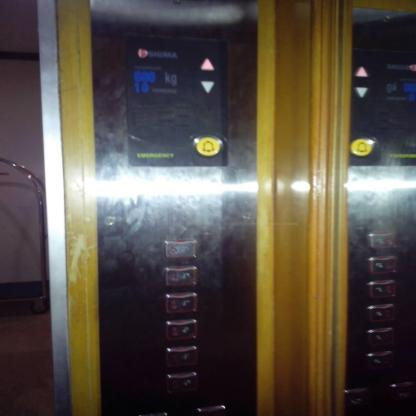3: (163, 292, 198, 314)
4: (162, 265, 198, 286)
5: (163, 240, 198, 260)
alarm: (191, 133, 224, 158), (350, 138, 373, 156)
blur: (164, 344, 199, 367), (163, 319, 198, 340), (165, 372, 198, 394)
down: (354, 86, 369, 98)
unknown: (366, 280, 398, 299), (364, 326, 394, 346), (367, 255, 398, 274), (341, 387, 372, 406), (364, 304, 396, 322), (364, 350, 394, 369), (367, 232, 398, 250), (388, 382, 416, 401)
up: (354, 66, 368, 78)
